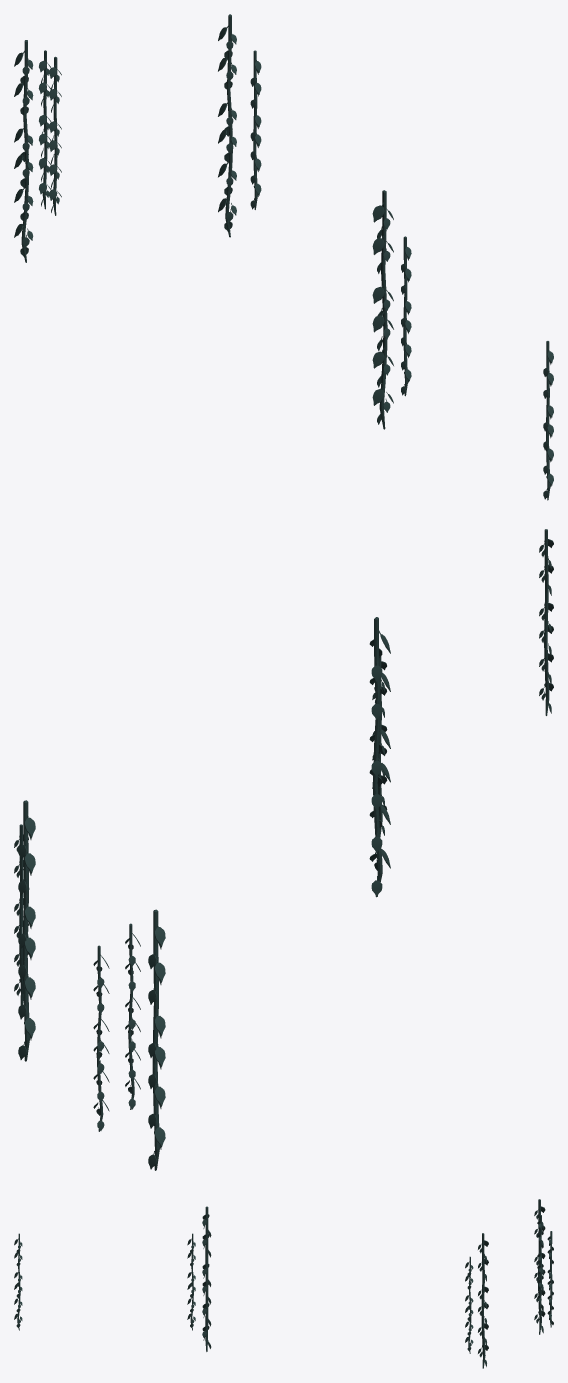
Rendered from vines2.fbx.
The picture shows the model from 3 angles, top to bottom: view 1: azimuth 30°, elevation 25°; view 2: azimuth 150°, elevation 25°; view 3: azimuth 270°, elevation 25°; orthographic projection. The views are drawn at different scales.
Parts seen in each view (by area): view 1: pCube34, pCube36, pCube37, pCube39, pCube38, pCube35, pCube41, pCube33; view 2: pCube34, pCube36, pCube37, pCube41, pCube39, pCube38, pCube35; view 3: pCube34, pCube36, pCube37, pCube41, pCube35, pCube33, pCube38, pCube39.
Boxes of the visible parts, x1,y1,x2,y2 form: pCube34: [372, 190, 393, 429]; pCube36: [218, 14, 236, 237]; pCube37: [14, 40, 33, 262]; pCube39: [49, 56, 61, 215]; pCube38: [38, 50, 51, 209]; pCube35: [250, 50, 261, 209]; pCube41: [543, 341, 553, 500]; pCube33: [401, 236, 411, 396]; pCube34: [369, 617, 390, 897]; pCube36: [18, 800, 35, 1061]; pCube37: [148, 909, 165, 1170]; pCube41: [539, 529, 553, 715]; pCube39: [93, 945, 109, 1131]; pCube38: [125, 923, 140, 1109]; pCube35: [14, 824, 28, 1005]; pCube34: [202, 1206, 211, 1351]; pCube36: [478, 1233, 488, 1368]; pCube37: [534, 1199, 545, 1334]; pCube41: [14, 1233, 22, 1330]; pCube35: [465, 1256, 473, 1353]; pCube33: [187, 1233, 195, 1330]; pCube38: [537, 1215, 543, 1311]; pCube39: [547, 1231, 553, 1327].
Bounding box in the file's own units: 16.98 × 22.03 × 70.39.
